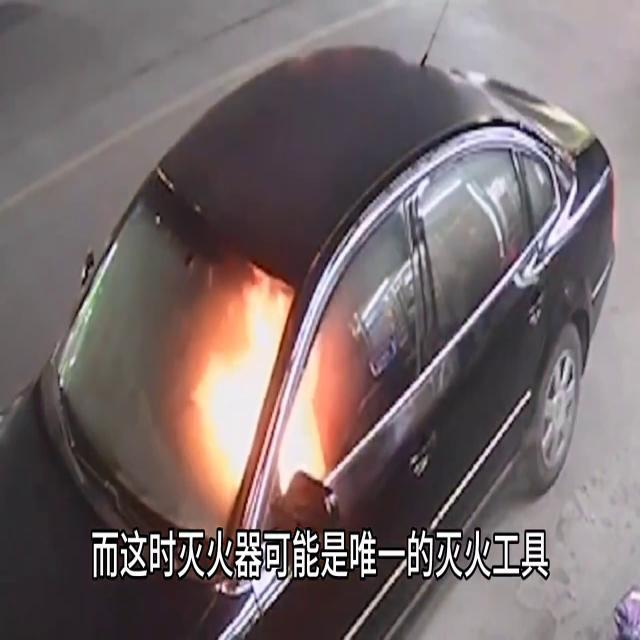Fire: (190, 266, 339, 500)
